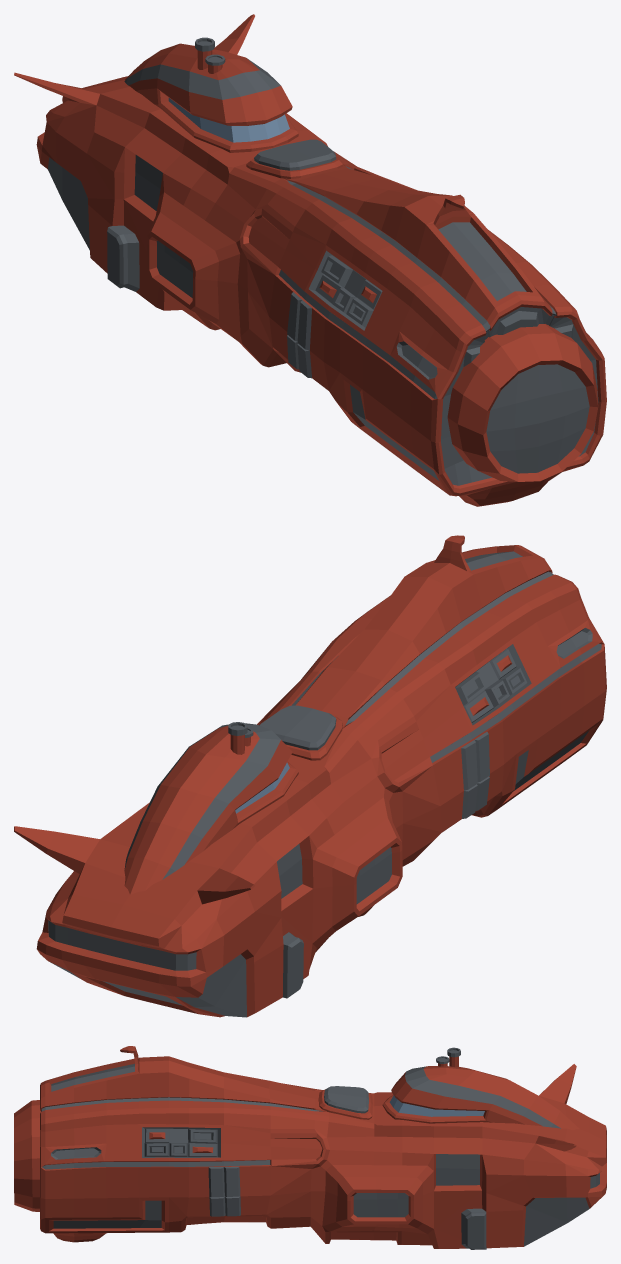
File: Dropship_05__Red.fbx
3 views of the same model, one above another, from view 1: azimuth 30°, elevation 25°; view 2: azimuth 150°, elevation 25°; view 3: azimuth 270°, elevation 25° (orthographic). The views are drawn at different scales.
Parts seen in each view (by area): view 1: Dropship_05__Red; view 2: Dropship_05__Red; view 3: Dropship_05__Red.
Boxes of the visible parts, left/top/right/bottom form: Dropship_05__Red: left=14, top=14, right=606, bottom=506; Dropship_05__Red: left=14, top=535, right=606, bottom=1017; Dropship_05__Red: left=14, top=1046, right=606, bottom=1249.
Size of the model in its own units: 545 by 575 by 1683.
Materials: 3 (3 with a texture image).
